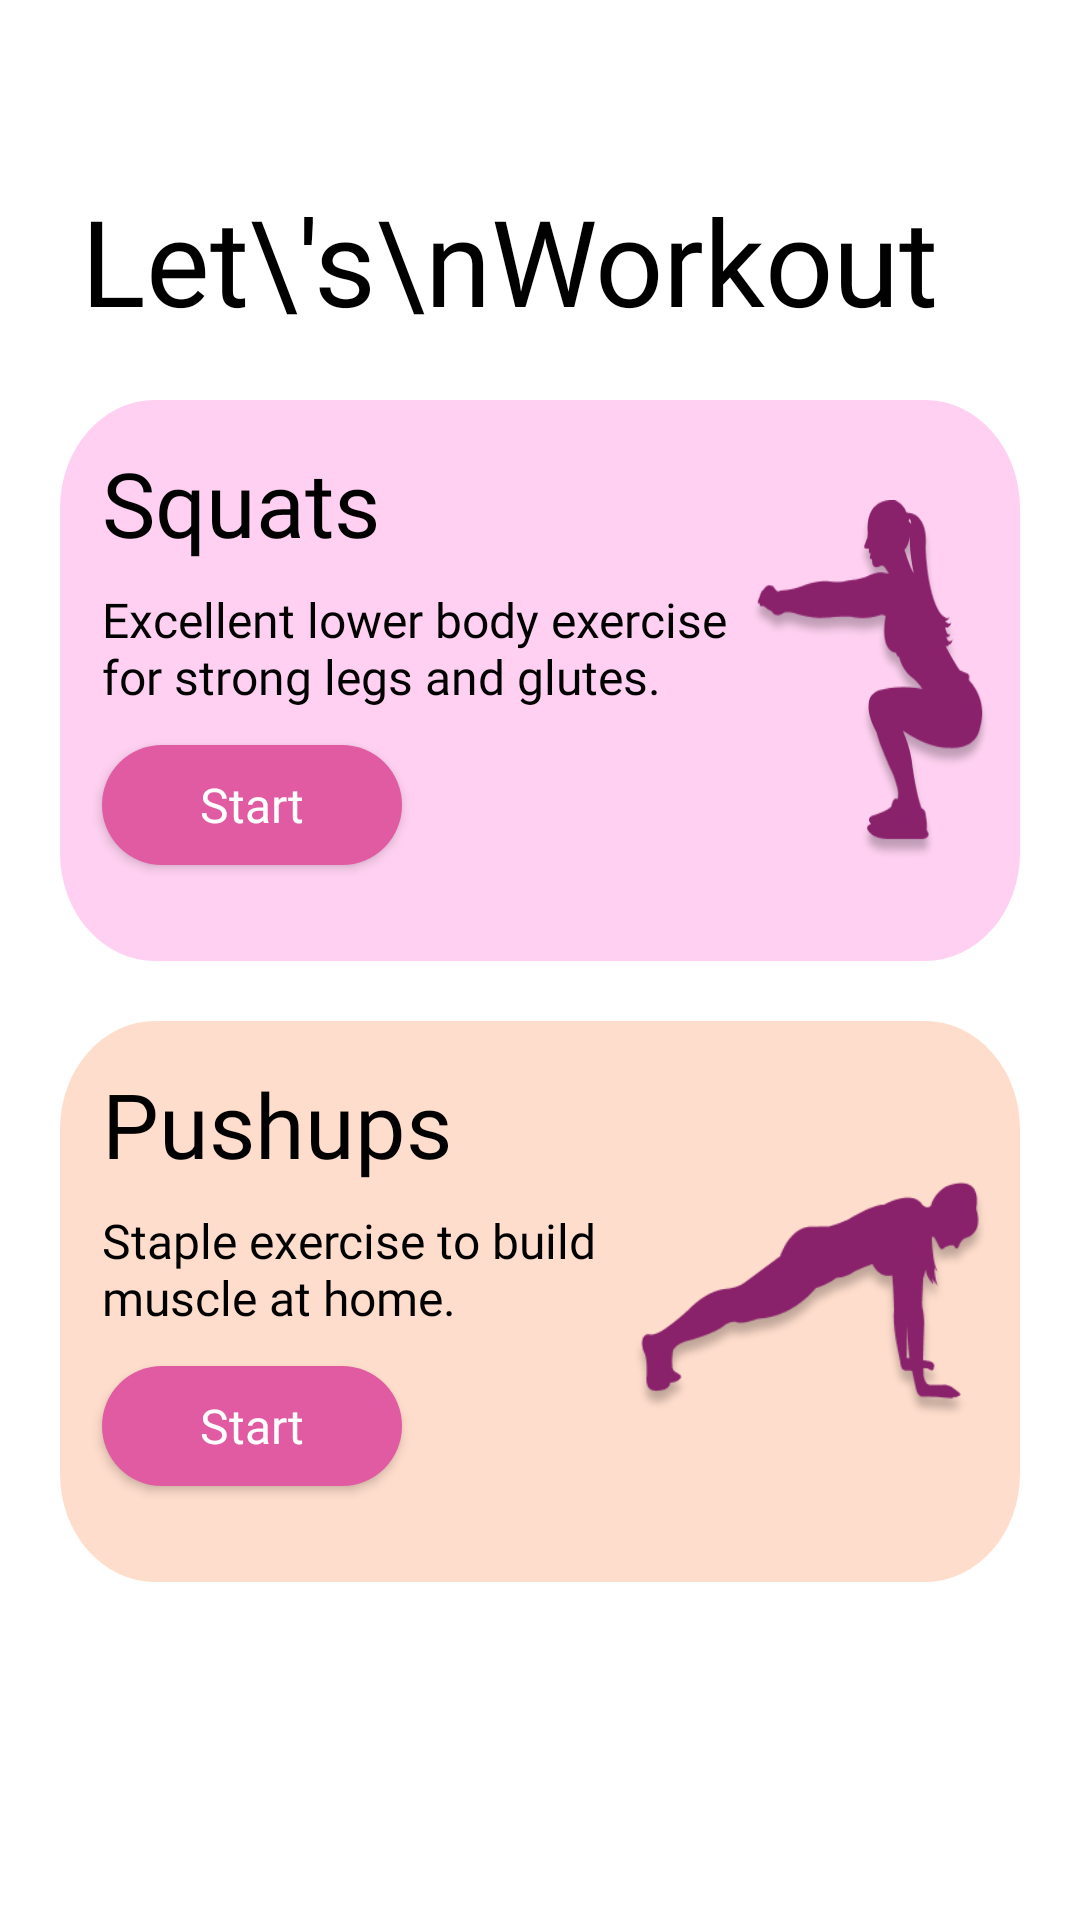

Named icons in this screenshot (1080 × 1920) and their bounding boxes, (x1, y1, x2, y2):
squat card model: (757, 500, 983, 851)
